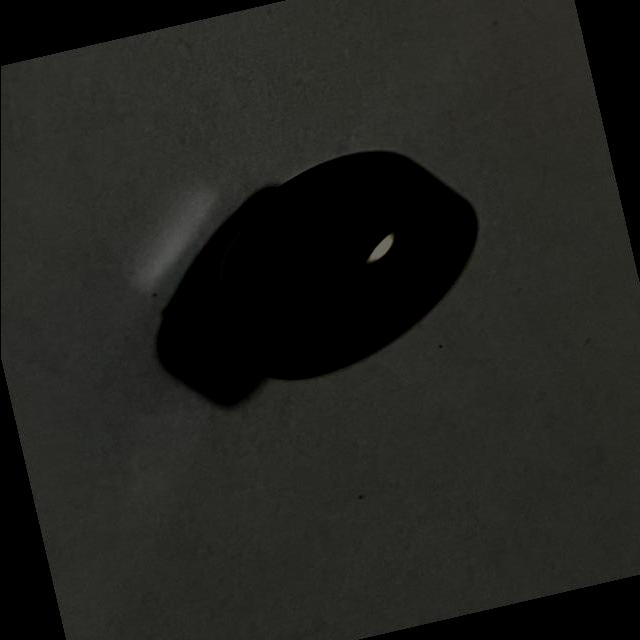COIN: (159, 127, 506, 406)
